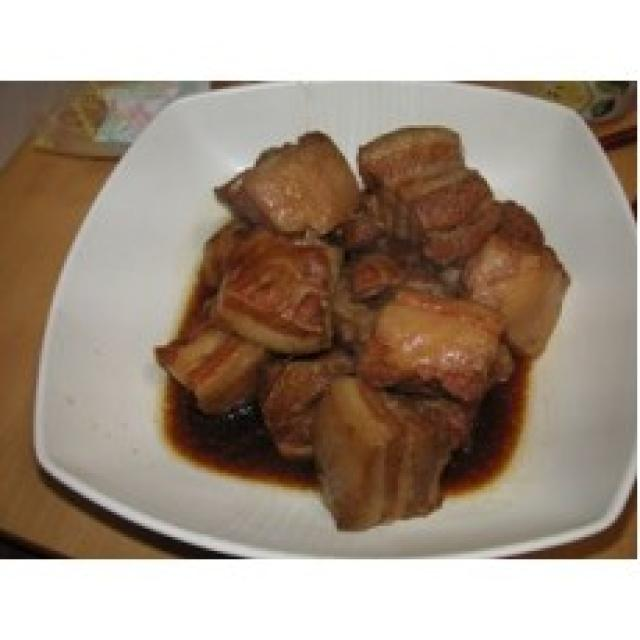猪肉菜式: (14, 89, 640, 537)
